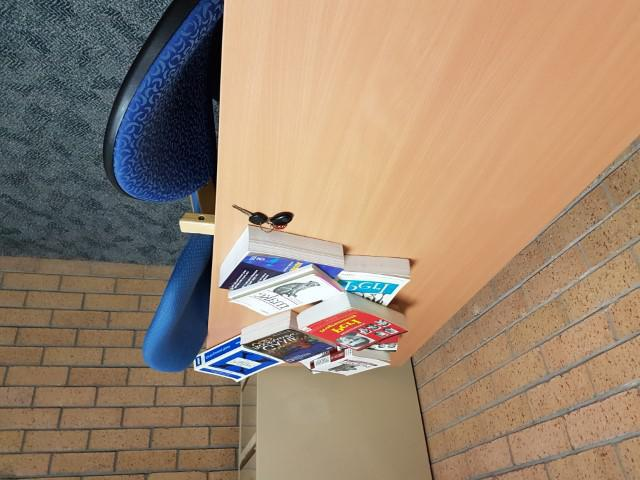key: (233, 204, 267, 225)
